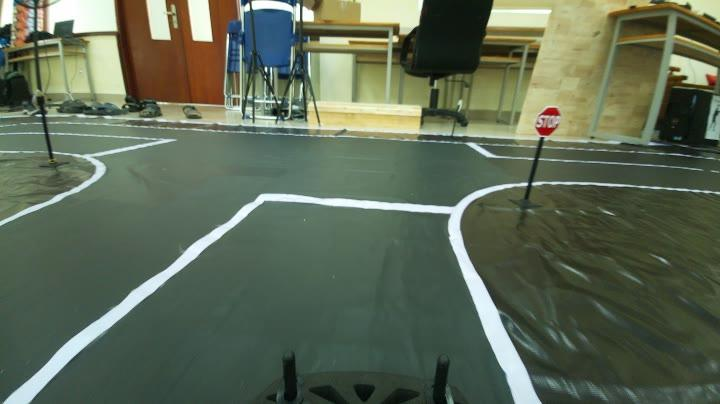stop: (532, 104, 563, 136)
